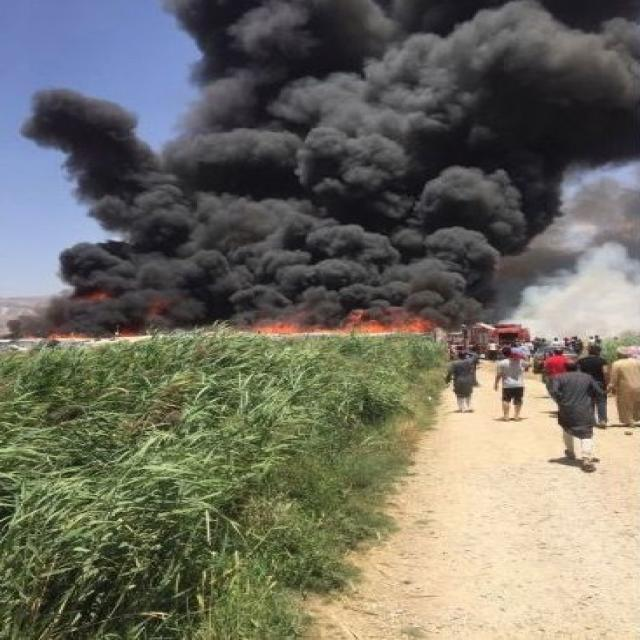Fire: (354, 315, 434, 332), (258, 321, 304, 332)
Smoke: (503, 226, 632, 330), (10, 238, 146, 336)
